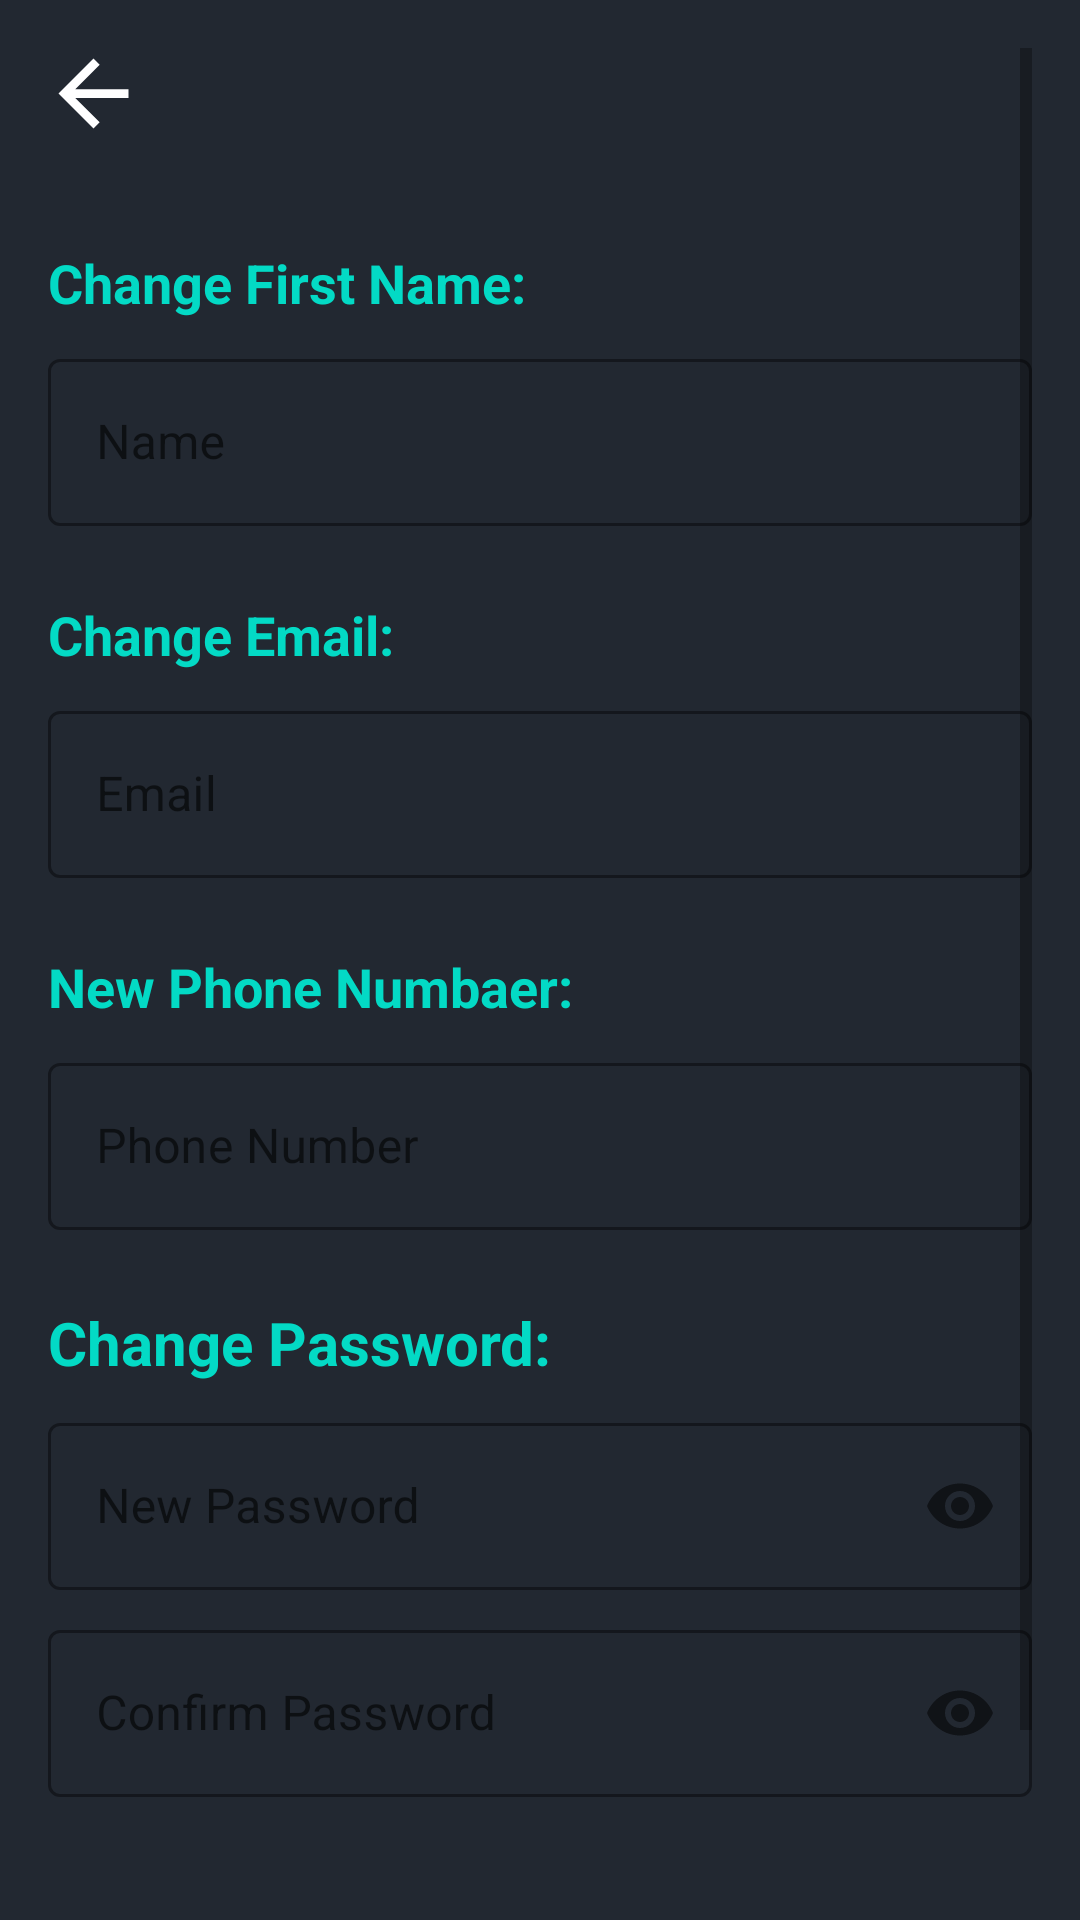

Screen size 1080px x 1920px. Icon name, then its center in pixels as (x=x, y=y):
Back Button: (x=93, y=93)
